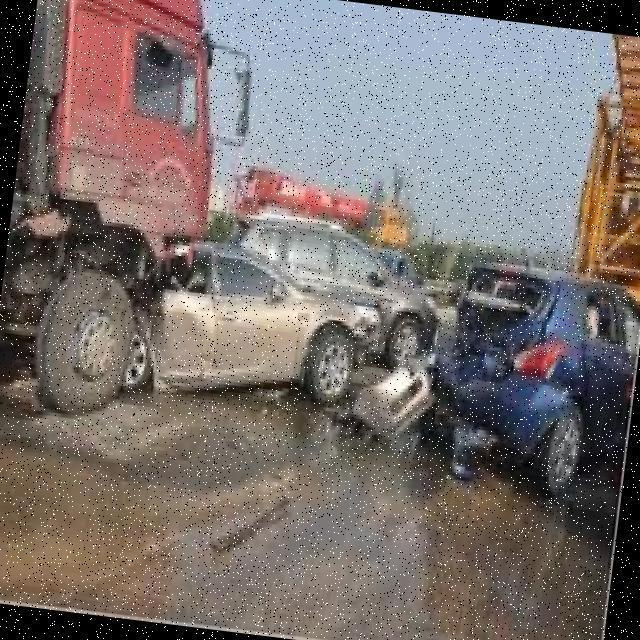accident: (21, 116, 290, 455), (377, 234, 616, 496)
